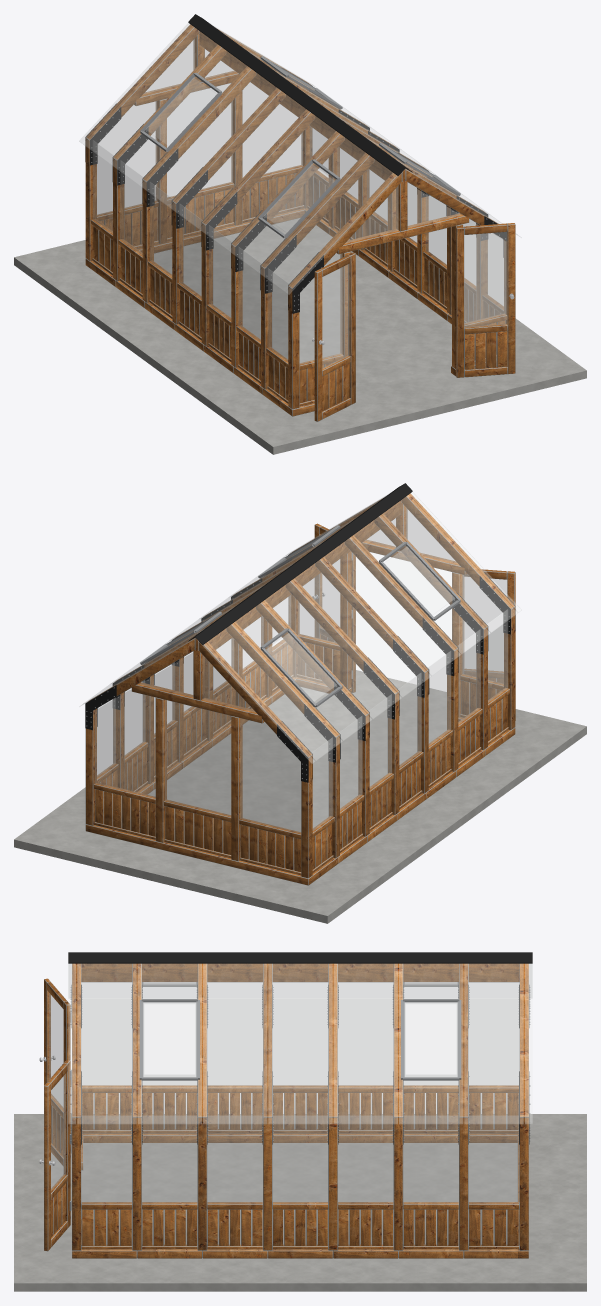
File: nordwood-classic.glb
3 renders of one model, top to bottom at view 1: azimuth 30°, elevation 25°; view 2: azimuth 150°, elevation 25°; view 3: azimuth 270°, elevation 25°, orthographic. The views are drawn at different scales.
Visible parts, largest first — view 1: nordwood-classic; view 2: nordwood-classic; view 3: nordwood-classic.
Part boxes in pixels (x1=…): nordwood-classic: x1=14, y1=14, x2=586, y2=454; nordwood-classic: x1=14, y1=483, x2=586, y2=923; nordwood-classic: x1=14, y1=952, x2=586, y2=1291.
Size of the model in its own units: 4.22 by 2.97 by 6.04.
9 materials, 4 textured.
